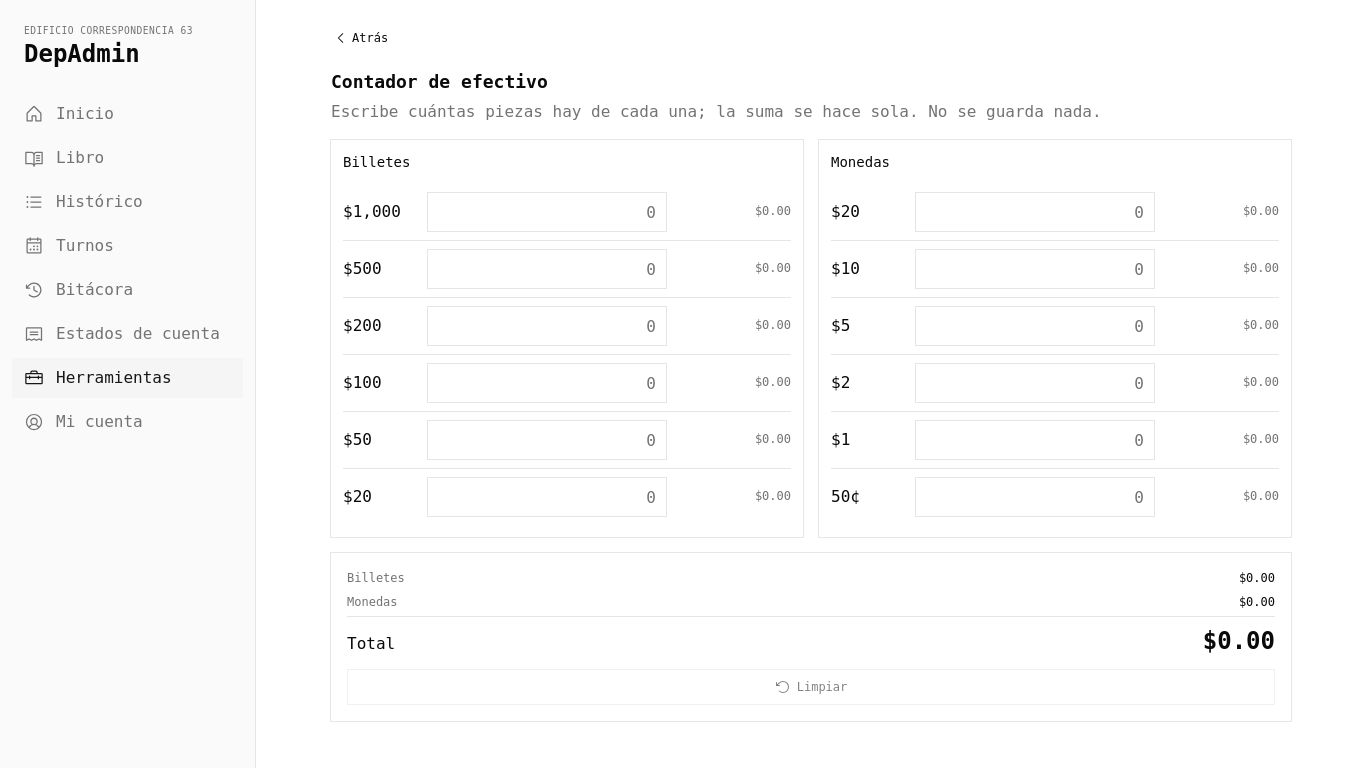
Test: tools › moves to the next denomination on Enter, across bills and coins
The image size is (1366, 768).
Type "4" into the field named "Billetes de $20" at x=547, y=497, box [427,477,667,517]
Then press Enter
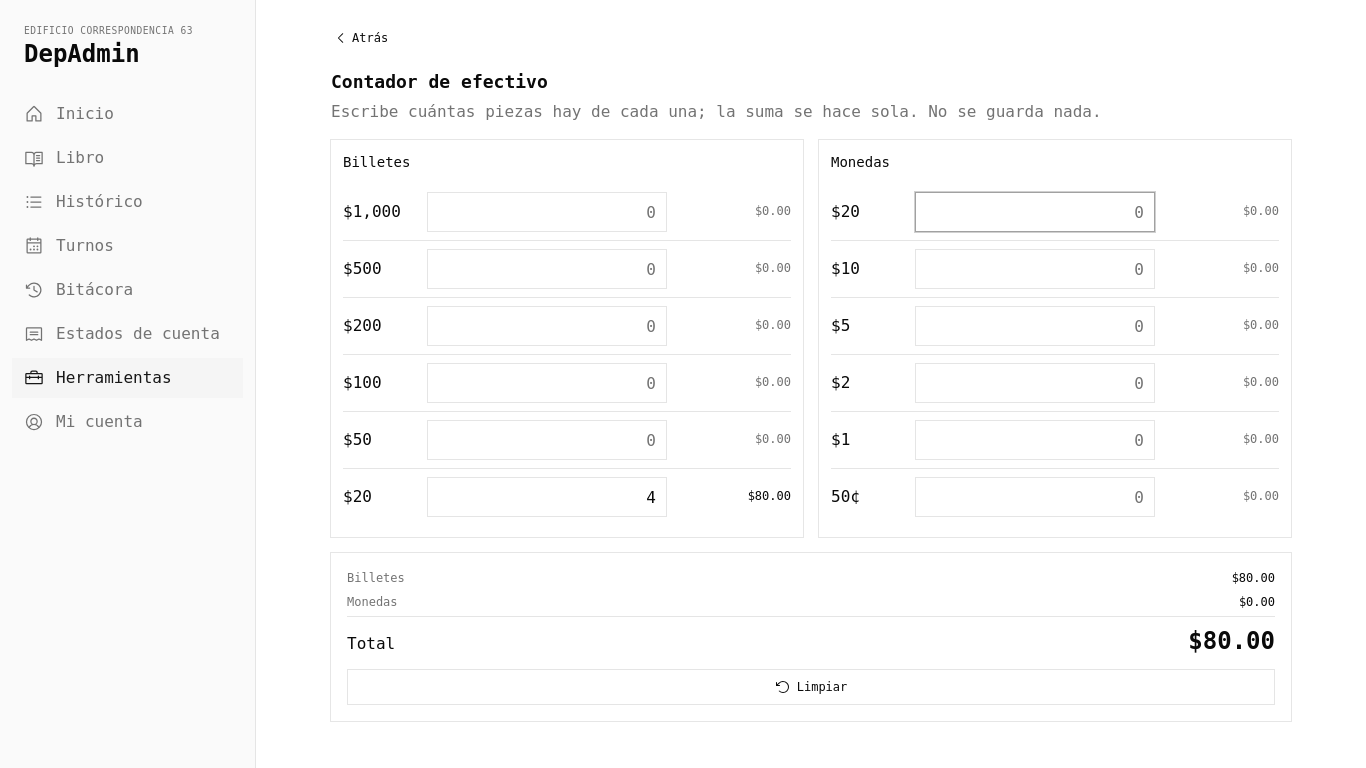
Type "1" into the field named "Monedas de 50¢" at x=1035, y=497, box [915,477,1155,517]
Then press Enter
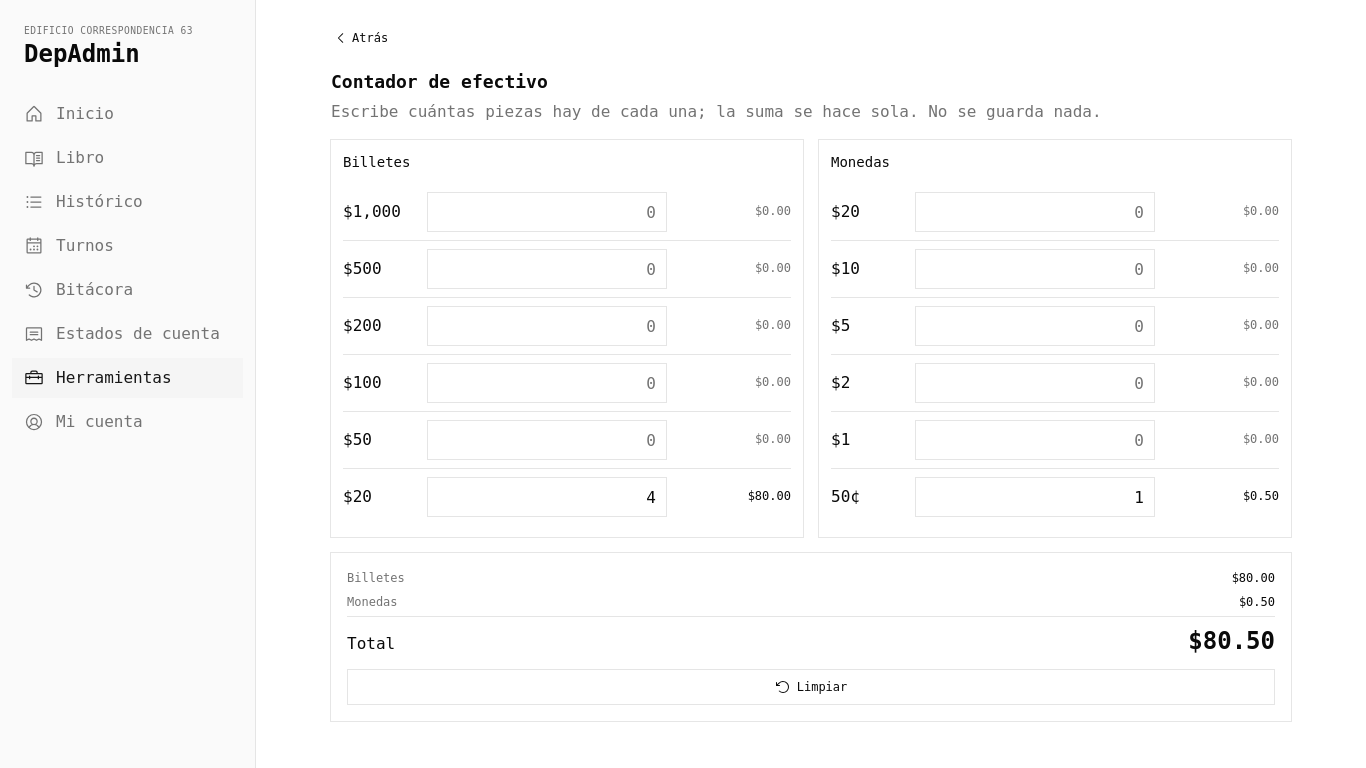
expect the text "$80.50" is shown: met, box [1188,625,1275,657]
